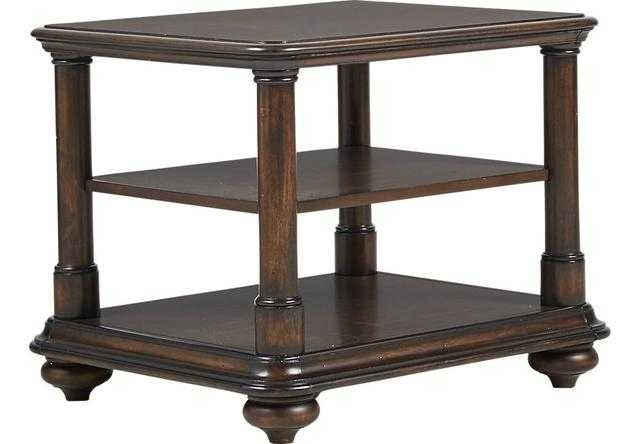obstacle: (31, 1, 608, 442)
